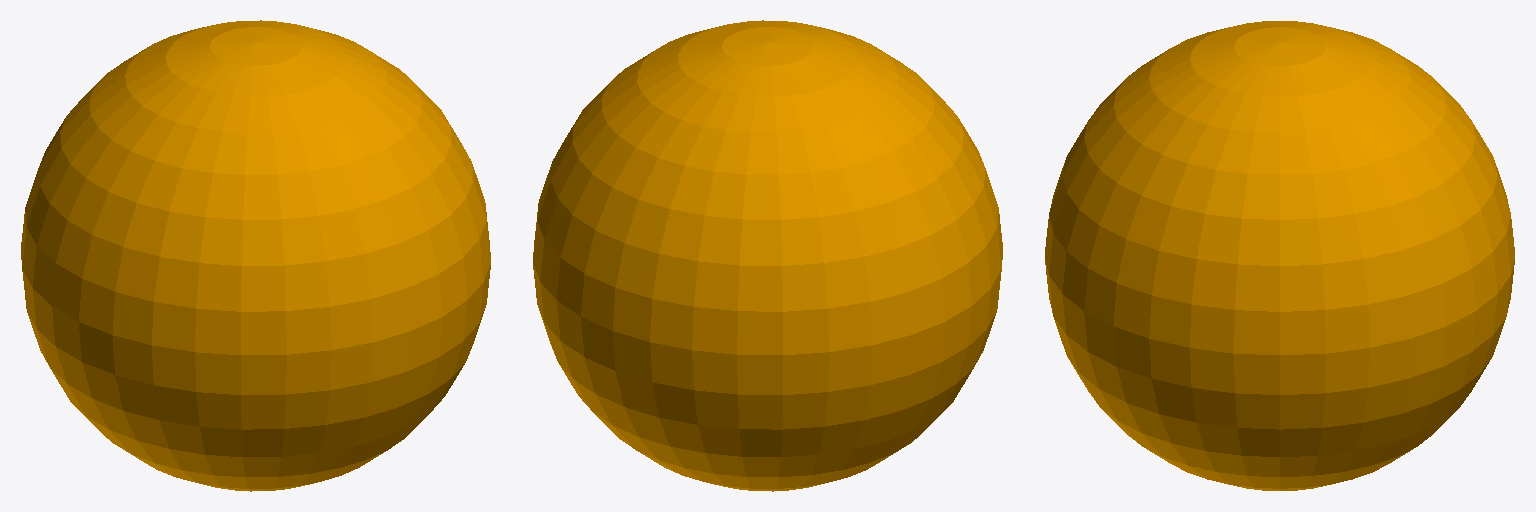
The robot description file, URDF, robot "Orig3":
<?xml version="1.0"?>
<robot name="Orig3">
  <link name="Orig3">
    <inertial>
      <origin xyz="0 0 0" /> 
      <mass value="0.1" />
      <inertia  ixx="1.0" ixy="0.0"  ixz="0.0"  iyy="1.0"  iyz="0.0"  izz="1.0" />
    </inertial>
    <visual>
      <origin xyz="-0.0433371 -0.0295083 -0.8615449" rpy="0 0 0"/>
      <geometry>
        <sphere radius="0.01"/>
      </geometry>
    </visual>
    <collision>
      <origin xyz="-0.0433371 -0.0295083 -0.8615449" rpy="0 0 0"/>
      <geometry>
        <sphere radius="0"/>
      </geometry>
    </collision>
  </link>
  <gazebo reference="Orig3">
    <material>Gazebo/Blue</material>
    <turnGravityOff>true</turnGravityOff>
  </gazebo>
</robot>

--- Render facts (derived) ---
3 views of the same robot in one strip: view 1: azimuth 30°, elevation 25°; view 2: azimuth 150°, elevation 25°; view 3: azimuth 270°, elevation 25° (orthographic).
Robot: Orig3 — 1 links, 0 joints (none); root link Orig3; default pose: all joints at 0.
Links seen in each view (by area): view 1: Orig3; view 2: Orig3; view 3: Orig3.
Link boxes in pixels (x1,y1,x2,y2): Orig3: [21, 20, 490, 491]; Orig3: [533, 20, 1002, 491]; Orig3: [1045, 21, 1514, 490].
Size in the robot's own frame: 0.02 by 0.02 by 0.02 metres.
Geometry: primitives only (box / cylinder / sphere), no mesh files.